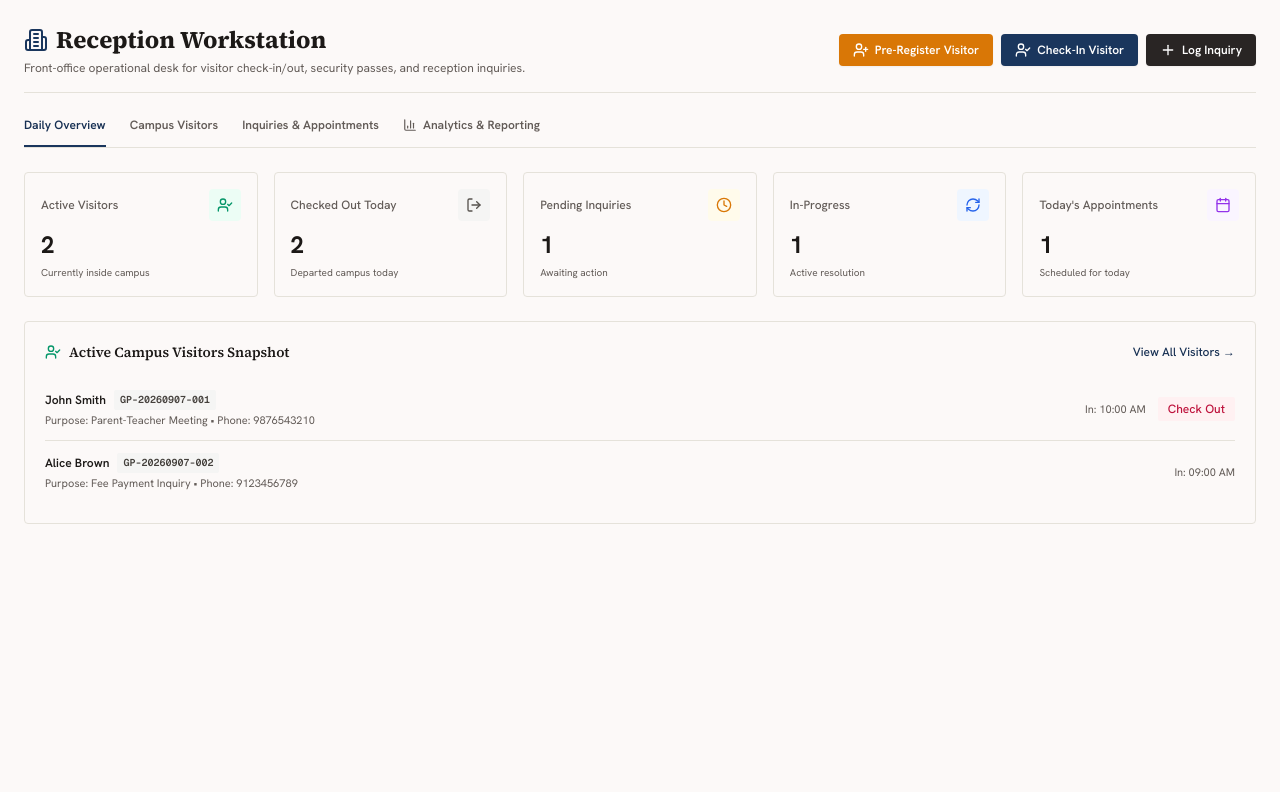
Test: ReceptionPage Workstation UI › 8. Renders Analytics & Reporting tab with operational metrics and trends
What coordinates should you click on to do the following:
click the button "Analytics & Reporting"
I would click on:
 (472, 132)
Its box is [403,117,540,147].
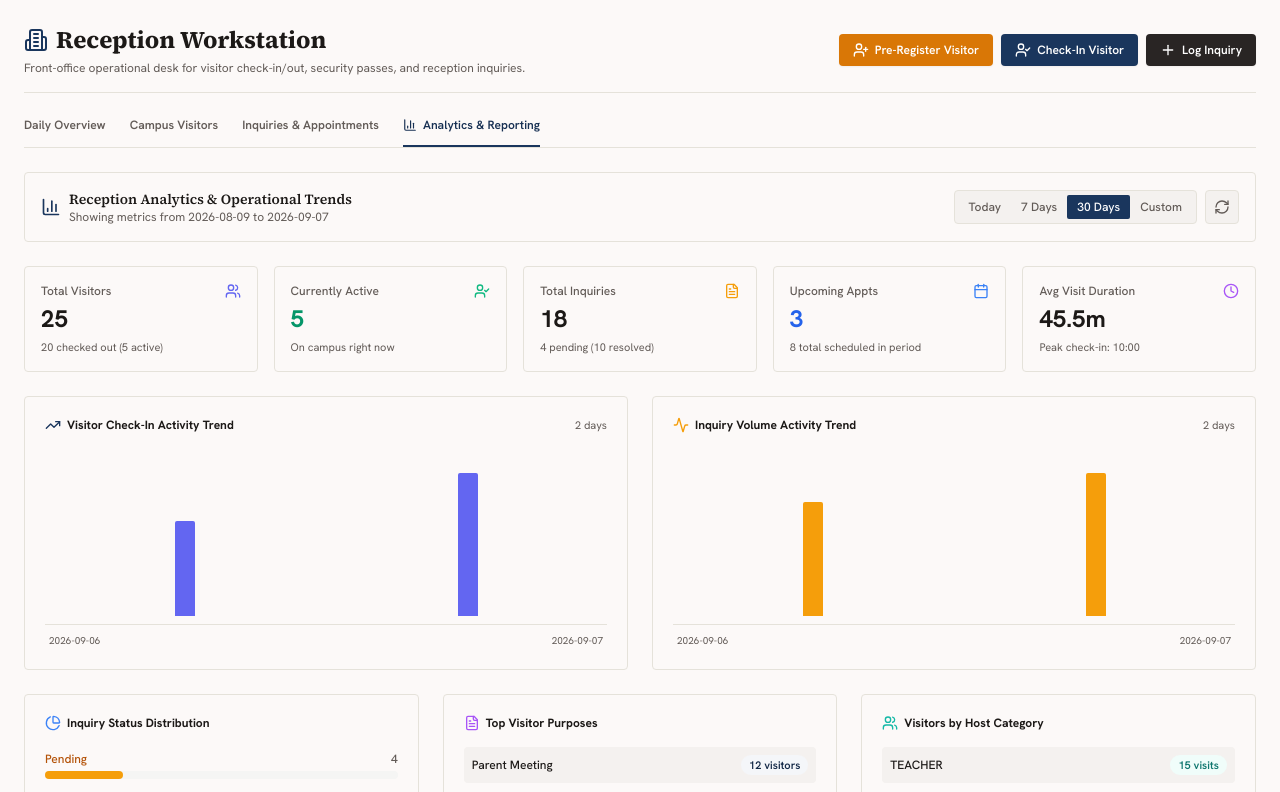
Expected: the heading "Reception Analytics & Operational Trends" is shown, [69,189,352,209]
Expected: the heading "Visitor Check-In Activity Trend" is shown, [45,417,234,433]
Expected: the heading "Inquiry Volume Activity Trend" is shown, [673,417,856,433]
